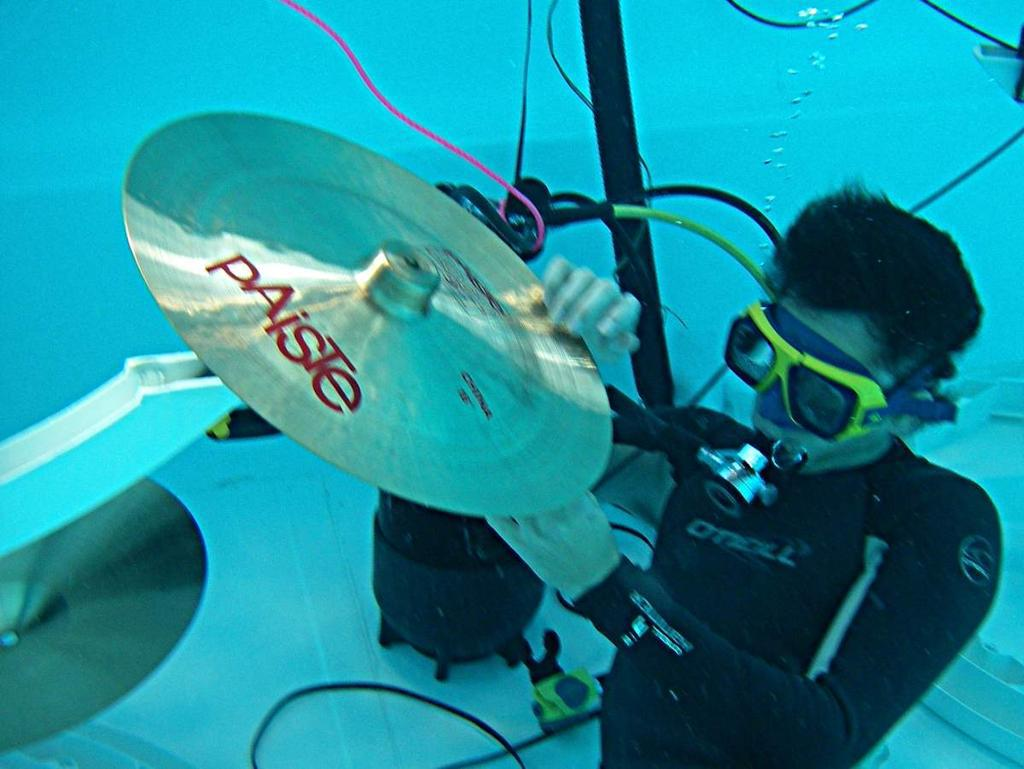face: (741, 283, 893, 473)
